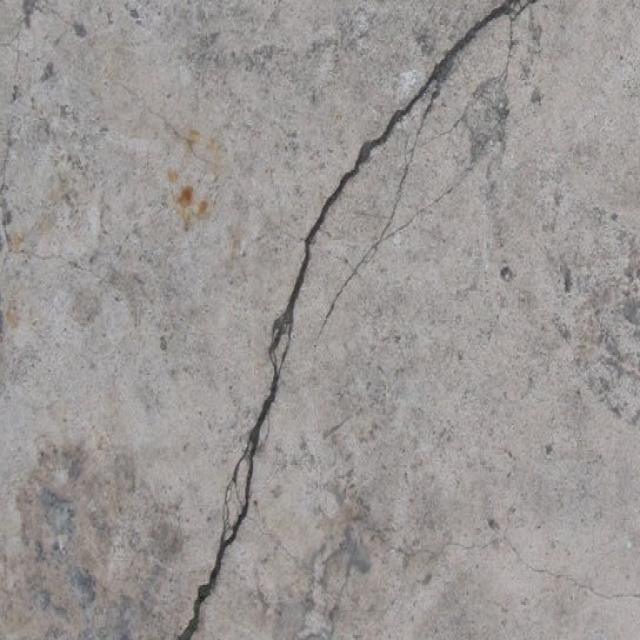crack: (175, 2, 543, 638)
